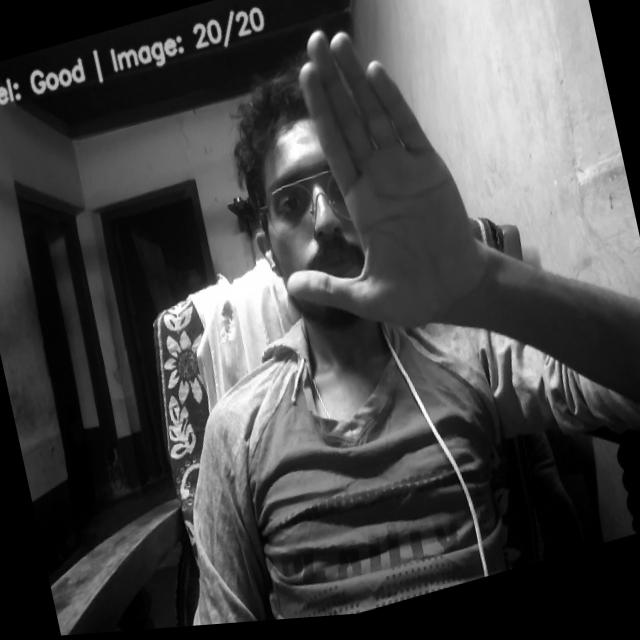Hello: (234, 0, 492, 375)
